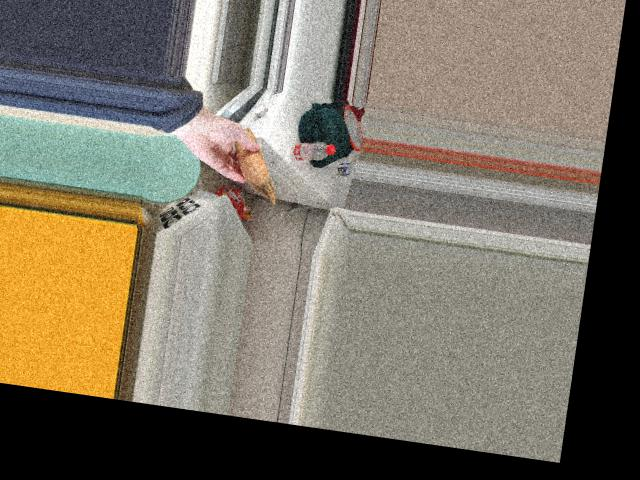sweet_potato: (224, 132, 275, 184)
